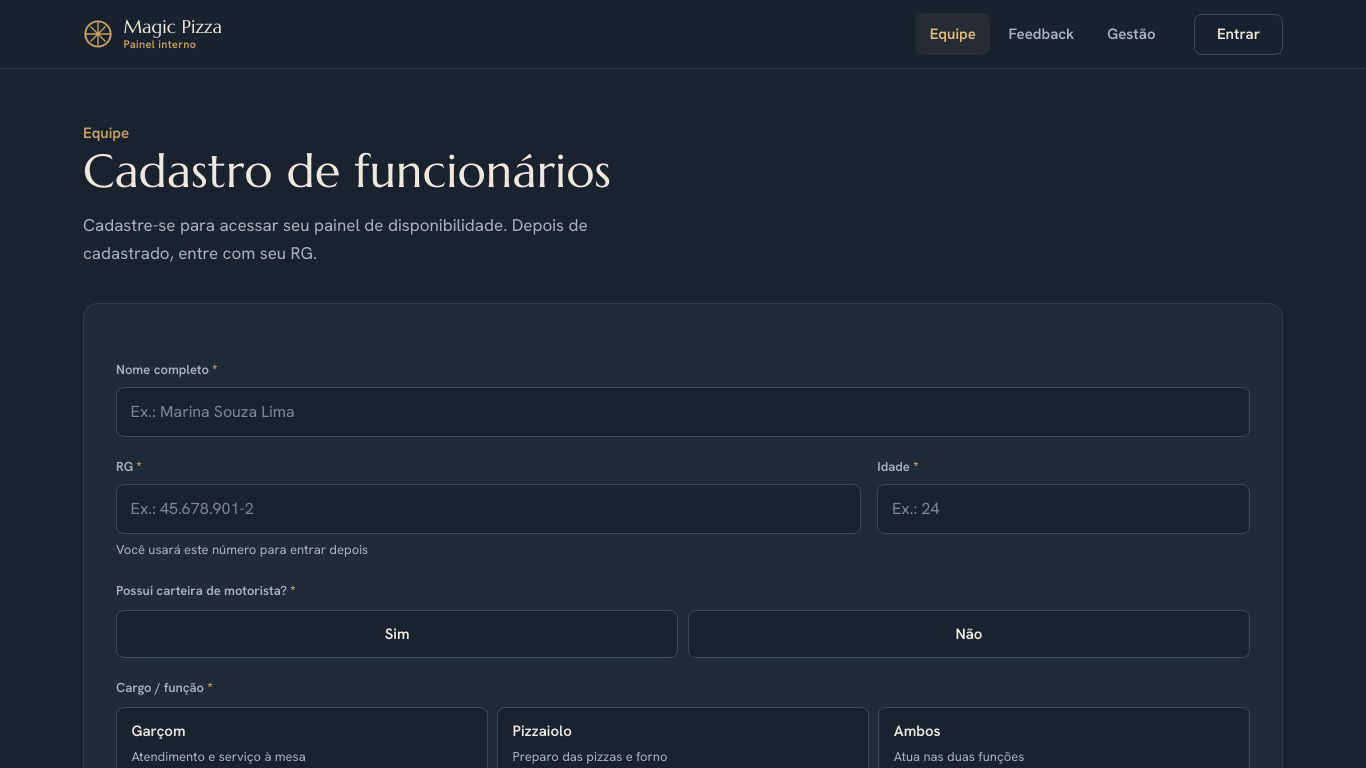
Fluxo de cadastro, login e disponibilidade › mostra erro ao tentar entrar com um RG não cadastrado
Click the button "Entrar" at [1238, 34], box [1194,14,1283,54]
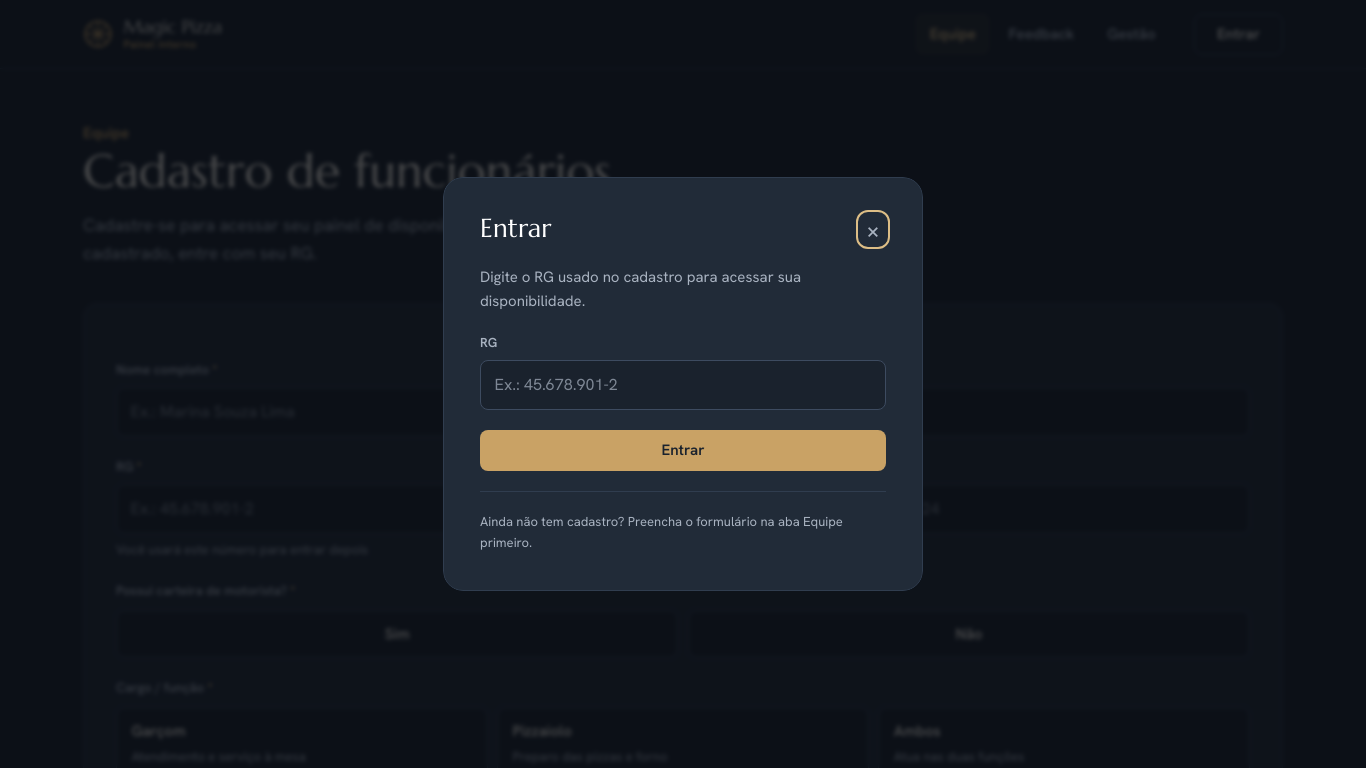
Type "99999999999" into the field labelled "RG" at [683, 385], box [480,360,886,410]
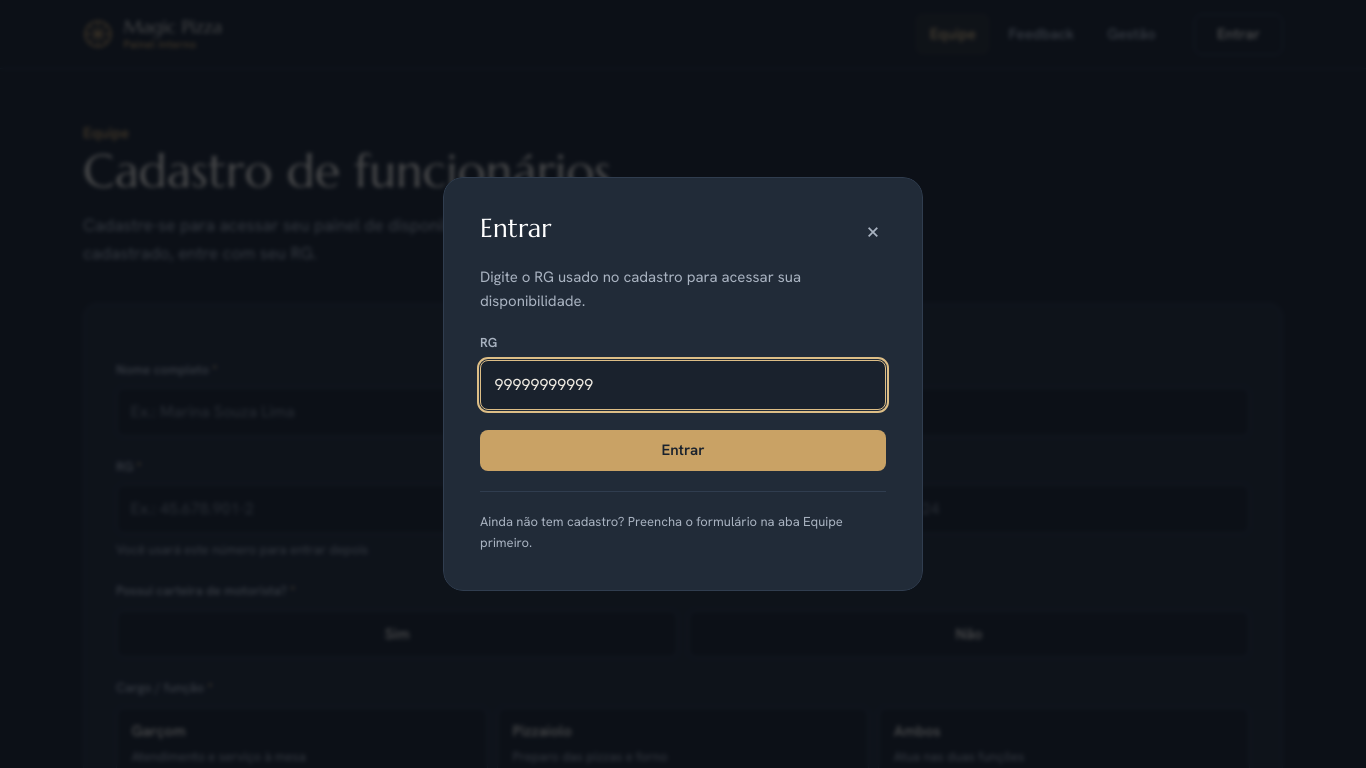
Click the button "Entrar" at [683, 450], box [480,430,886,471]
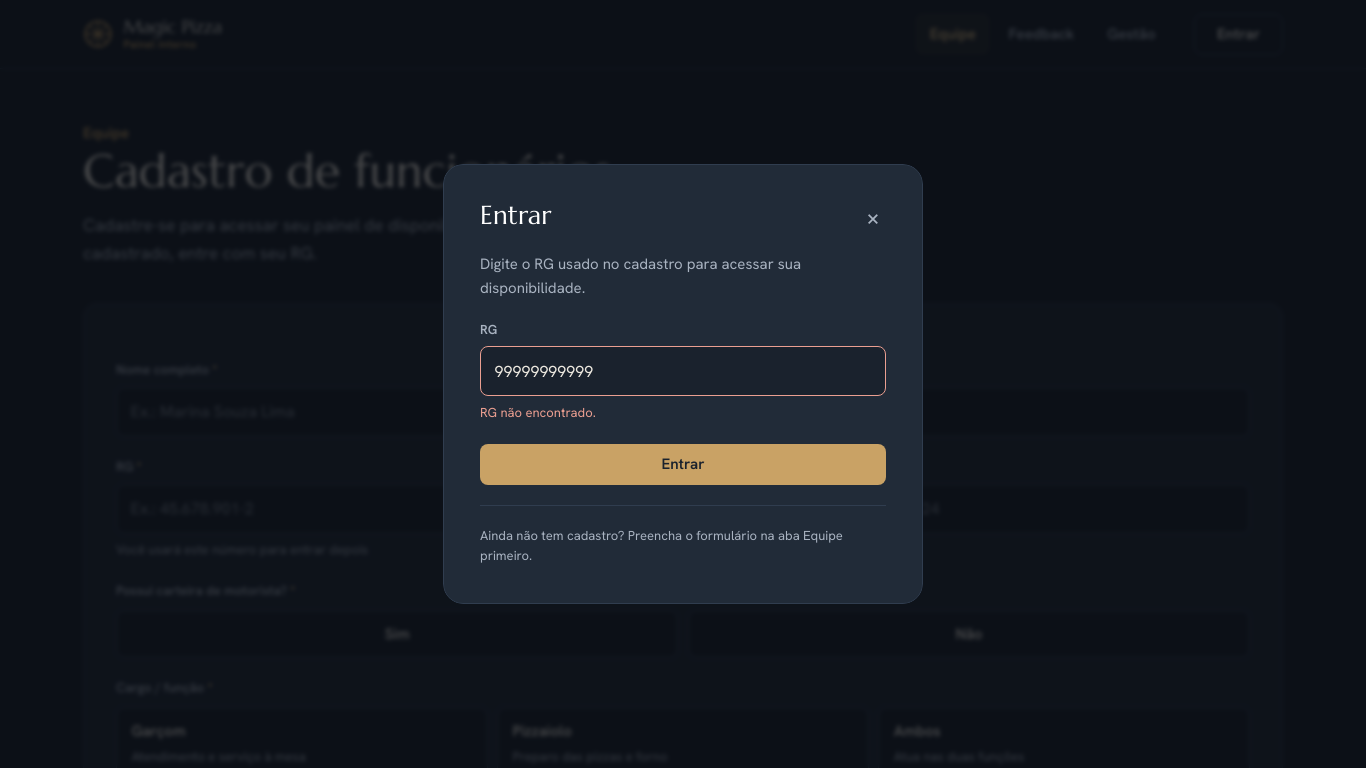
Now the text "RG não encontrado." is shown, box [480,404,596,421]
